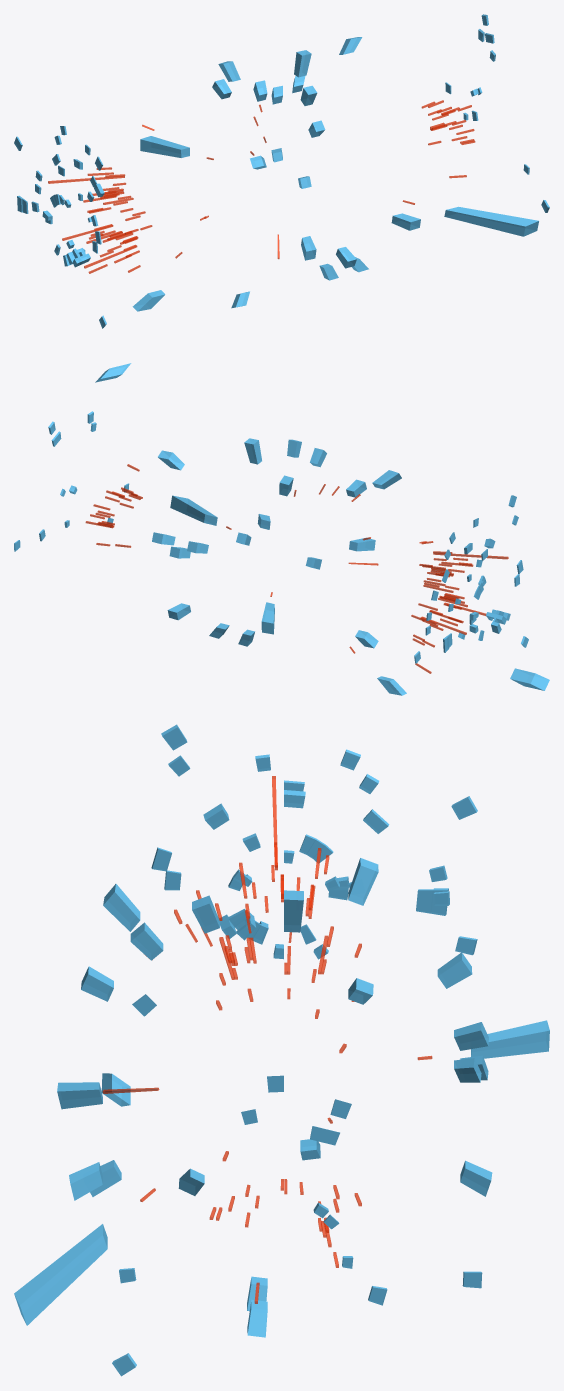
The model's file is Event_40932208_calo.fbx.
The picture shows the model from 3 angles, top to bottom: view 1: azimuth 30°, elevation 25°; view 2: azimuth 150°, elevation 25°; view 3: azimuth 270°, elevation 25°; orthographic projection. The views are drawn at different scales.
Visible parts, largest first — view 1: Model; view 2: Model; view 3: Model.
Boxes of the visible parts, x1,y1,x2,y2 form: Model: (14, 14, 549, 382); Model: (14, 411, 549, 695); Model: (14, 724, 549, 1376).
Size of the model in its own units: 23.24 by 11.33 by 13.16.
